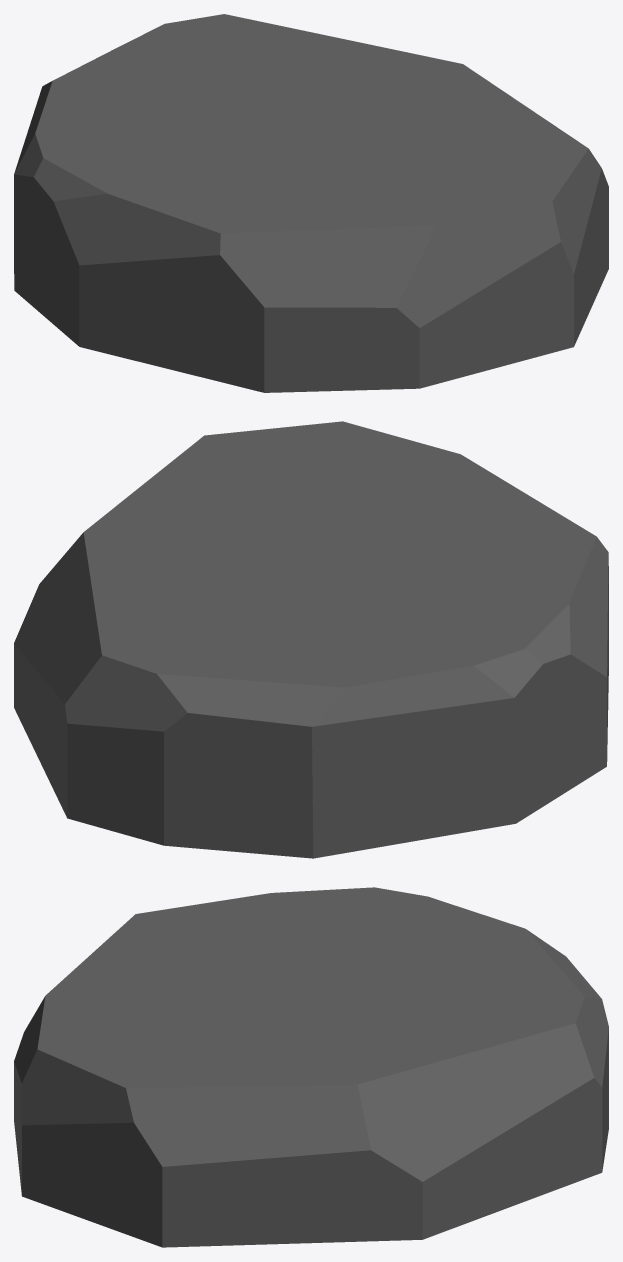
Rendered from Stone 4.fbx.
3 views of the same model, one above another, from view 1: azimuth 30°, elevation 25°; view 2: azimuth 150°, elevation 25°; view 3: azimuth 270°, elevation 25° (orthographic). The views are drawn at different scales.
Visible parts, largest first — view 1: Stone 4; view 2: Stone 4; view 3: Stone 4.
Part boxes in pixels (bbox=[...]): Stone 4: bbox=[14, 14, 608, 392]; Stone 4: bbox=[14, 421, 608, 858]; Stone 4: bbox=[14, 887, 608, 1247].
Size of the model in its own units: 98.84 by 28.38 by 109.
